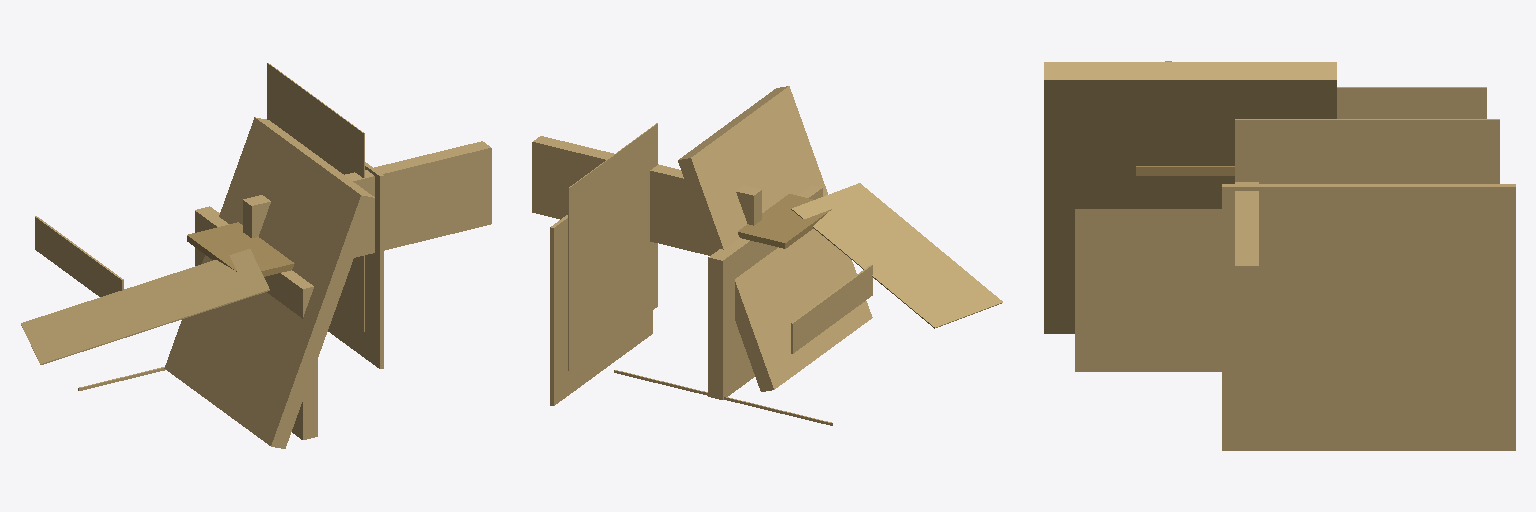
The robot description file, URDF, robot "evolved_design":
<?xml version="1.0" ?>
<robot name="evolved_design">
  <link name="base_link">
    <inertial>
      <mass value="0.001"/>
      <origin xyz="0 0 0" rpy="0 0 0"/>
      <inertia ixx="0.000001" ixy="0" ixz="0" iyy="0.000001" iyz="0" izz="0.000001"/>
    </inertial>
  </link>
  <link name="link_comp_0">
    <inertial>
      <mass value="9.511192"/>
      <origin xyz="0 0 0" rpy="0 0 0"/>
      <inertia ixx="0.458639228" ixy="0" ixz="0" iyy="0.172763660" iyz="0" izz="0.289838565"/>
    </inertial>
    <visual>
      <origin xyz="0 0 0" rpy="0 0 0"/>
      <geometry>
        <box size="0.050000 0.602645 0.464189"/>
      </geometry>
      <material name="link_comp_0_material">
        <color rgba="0.8 0.7 0.5 1"/>
      </material>
    </visual>
    <collision>
      <origin xyz="0 0 0" rpy="0 0 0"/>
      <geometry>
        <box size="0.050000 0.602645 0.464189"/>
      </geometry>
    </collision>
  </link>
  <joint name="base_link_to_link_comp_0" type="fixed">
    <parent link="base_link"/>
    <child link="link_comp_0"/>
    <origin xyz="0.025000 0.301323 0.232094" rpy="0.000000 0.000000 0.000000"/>
  </joint>
  <link name="link_comp_1">
    <inertial>
      <mass value="0.022130"/>
      <origin xyz="0 0 0" rpy="0 0 0"/>
      <inertia ixx="0.000000191" ixy="0" ixz="0" iyy="0.001070941" iyz="0" izz="0.001070833"/>
    </inertial>
    <visual>
      <origin xyz="0 0 0" rpy="0 0 0"/>
      <geometry>
        <box size="0.762000 0.004750 0.008992"/>
      </geometry>
      <material name="link_comp_1_material">
        <color rgba="0.8 0.7 0.5 1"/>
      </material>
    </visual>
    <collision>
      <origin xyz="0 0 0" rpy="0 0 0"/>
      <geometry>
        <box size="0.762000 0.004750 0.008992"/>
      </geometry>
    </collision>
  </link>
  <joint name="base_link_to_link_comp_1" type="fixed">
    <parent link="base_link"/>
    <child link="link_comp_1"/>
    <origin xyz="0.002716 0.593974 0.004496" rpy="0.000000 0.000000 0.000000"/>
  </joint>
  <link name="link_comp_2">
    <inertial>
      <mass value="0.212601"/>
      <origin xyz="0 0 0" rpy="0 0 0"/>
      <inertia ixx="0.004343697" ixy="0" ixz="0" iyy="0.000183588" iyz="0" izz="0.004161537"/>
    </inertial>
    <visual>
      <origin xyz="0 0 0" rpy="0 0 0"/>
      <geometry>
        <box size="0.006350 0.484616 0.101598"/>
      </geometry>
      <material name="link_comp_2_material">
        <color rgba="0.8 0.7 0.5 1"/>
      </material>
    </visual>
    <collision>
      <origin xyz="0 0 0" rpy="0 0 0"/>
      <geometry>
        <box size="0.006350 0.484616 0.101598"/>
      </geometry>
    </collision>
  </link>
  <joint name="base_link_to_link_comp_2" type="fixed">
    <parent link="base_link"/>
    <child link="link_comp_2"/>
    <origin xyz="-0.375264 0.595578 0.387610" rpy="0.000000 0.000000 0.000000"/>
  </joint>
  <link name="link_comp_3">
    <inertial>
      <mass value="0.667781"/>
      <origin xyz="0 0 0" rpy="0 0 0"/>
      <inertia ixx="0.036755775" ixy="0" ixz="0" iyy="0.020680131" iyz="0" izz="0.016076644"/>
    </inertial>
    <visual>
      <origin xyz="0 0 0" rpy="0 0 0"/>
      <geometry>
        <box size="0.002997 0.537483 0.609600"/>
      </geometry>
      <material name="link_comp_3_material">
        <color rgba="0.8 0.7 0.5 1"/>
      </material>
    </visual>
    <collision>
      <origin xyz="0 0 0" rpy="0 0 0"/>
      <geometry>
        <box size="0.002997 0.537483 0.609600"/>
      </geometry>
    </collision>
  </link>
  <joint name="base_link_to_link_comp_3" type="fixed">
    <parent link="base_link"/>
    <child link="link_comp_3"/>
    <origin xyz="0.385714 0.594703 0.416882" rpy="0.000000 0.000000 0.000000"/>
  </joint>
  <link name="link_comp_4">
    <inertial>
      <mass value="0.434203"/>
      <origin xyz="0 0 0" rpy="0 0 0"/>
      <inertia ixx="0.002761186" ixy="0" ixz="0" iyy="0.016445115" iyz="0" izz="0.019205450"/>
    </inertial>
    <visual>
      <origin xyz="0 0 0" rpy="0 0 0"/>
      <geometry>
        <box size="0.674151 0.276222 0.003429"/>
      </geometry>
      <material name="link_comp_4_material">
        <color rgba="0.8 0.7 0.5 1"/>
      </material>
    </visual>
    <collision>
      <origin xyz="0 0 0" rpy="0 0 0"/>
      <geometry>
        <box size="0.674151 0.276222 0.003429"/>
      </geometry>
    </collision>
  </link>
  <joint name="base_link_to_link_comp_4" type="fixed">
    <parent link="base_link"/>
    <child link="link_comp_4"/>
    <origin xyz="-0.382815 0.213382 0.413080" rpy="0.000000 -0.253033 -0.321895"/>
  </joint>
  <link name="link_comp_5">
    <inertial>
      <mass value="6.188834"/>
      <origin xyz="0 0 0" rpy="0 0 0"/>
      <inertia ixx="0.030036092" ixy="0" ixz="0" iyy="0.335314365" iyz="0" izz="0.307856954"/>
    </inertial>
    <visual>
      <origin xyz="0 0 0" rpy="0 0 0"/>
      <geometry>
        <box size="0.770991 0.050000 0.236092"/>
      </geometry>
      <material name="link_comp_5_material">
        <color rgba="0.8 0.7 0.5 1"/>
      </material>
    </visual>
    <collision>
      <origin xyz="0 0 0" rpy="0 0 0"/>
      <geometry>
        <box size="0.770991 0.050000 0.236092"/>
      </geometry>
    </collision>
  </link>
  <joint name="base_link_to_link_comp_5" type="fixed">
    <parent link="base_link"/>
    <child link="link_comp_5"/>
    <origin xyz="0.408742 0.349699 0.465255" rpy="0.000000 0.000000 0.000000"/>
  </joint>
  <link name="link_comp_6">
    <inertial>
      <mass value="3.057755"/>
      <origin xyz="0 0 0" rpy="0 0 0"/>
      <inertia ixx="0.180447841" ixy="0" ixz="0" iyy="0.089643326" iyz="0" izz="0.090886713"/>
    </inertial>
    <visual>
      <origin xyz="0 0 0" rpy="0 0 0"/>
      <geometry>
        <box size="0.012700 0.597092 0.592992"/>
      </geometry>
      <material name="link_comp_6_material">
        <color rgba="0.8 0.7 0.5 1"/>
      </material>
    </visual>
    <collision>
      <origin xyz="0 0 0" rpy="0 0 0"/>
      <geometry>
        <box size="0.012700 0.597092 0.592992"/>
      </geometry>
    </collision>
  </link>
  <joint name="base_link_to_link_comp_6" type="fixed">
    <parent link="base_link"/>
    <child link="link_comp_6"/>
    <origin xyz="0.426474 0.596292 0.296496" rpy="0.000000 0.000000 0.000000"/>
  </joint>
  <link name="link_comp_7">
    <inertial>
      <mass value="15.383863"/>
      <origin xyz="0 0 0" rpy="0 0 0"/>
      <inertia ixx="1.196388103" ixy="0" ixz="0" iyy="0.747583955" iyz="0" izz="0.455214091"/>
    </inertial>
    <visual>
      <origin xyz="0 0 0" rpy="0 0 0"/>
      <geometry>
        <box size="0.050000 0.593788 0.762000"/>
      </geometry>
      <material name="link_comp_7_material">
        <color rgba="0.8 0.7 0.5 1"/>
      </material>
    </visual>
    <collision>
      <origin xyz="0 0 0" rpy="0 0 0"/>
      <geometry>
        <box size="0.050000 0.593788 0.762000"/>
      </geometry>
    </collision>
  </link>
  <joint name="base_link_to_link_comp_7" type="fixed">
    <parent link="base_link"/>
    <child link="link_comp_7"/>
    <origin xyz="0.029996 0.234825 0.381000" rpy="0.000000 0.390684 0.000000"/>
  </joint>
  <link name="link_comp_8">
    <inertial>
      <mass value="0.912114"/>
      <origin xyz="0 0 0" rpy="0 0 0"/>
      <inertia ixx="0.007450325" ixy="0" ixz="0" iyy="0.003886466" iyz="0" izz="0.011281624"/>
    </inertial>
    <visual>
      <origin xyz="0 0 0" rpy="0 0 0"/>
      <geometry>
        <box size="0.225319 0.312499 0.019050"/>
      </geometry>
      <material name="link_comp_8_material">
        <color rgba="0.7 0.6 0.4 1"/>
      </material>
    </visual>
    <collision>
      <origin xyz="0 0 0" rpy="0 0 0"/>
      <geometry>
        <box size="0.225319 0.312499 0.019050"/>
      </geometry>
    </collision>
  </link>
  <joint name="base_link_to_link_comp_8" type="fixed">
    <parent link="base_link"/>
    <child link="link_comp_8"/>
    <origin xyz="-0.009107 0.279801 0.474214" rpy="0.000000 0.000000 0.000000"/>
  </joint>
</robot>

--- Render facts (derived) ---
Views: 3 orthographic renders of the robot side by side, from view 1: azimuth 30°, elevation 25°; view 2: azimuth 150°, elevation 25°; view 3: azimuth 270°, elevation 25°.
Robot: evolved_design — 10 links, 9 joints (9 fixed); root link base_link; default pose: all joints at 0.
Links seen in each view (by area): view 1: link_comp_7, link_comp_5, link_comp_4, link_comp_3, link_comp_6, link_comp_0, link_comp_2, link_comp_8; view 2: link_comp_7, link_comp_3, link_comp_4, link_comp_5, link_comp_0, link_comp_6, link_comp_2, link_comp_8, link_comp_1; view 3: link_comp_6, link_comp_7, link_comp_0, link_comp_3, link_comp_2, link_comp_5, link_comp_8.
Link boxes in pixels (x1,y1,x2,y2): link_comp_7: [164, 117, 374, 448]; link_comp_5: [243, 141, 491, 257]; link_comp_4: [21, 249, 269, 364]; link_comp_3: [267, 63, 364, 331]; link_comp_6: [328, 162, 383, 368]; link_comp_0: [195, 206, 317, 439]; link_comp_2: [35, 216, 123, 296]; link_comp_8: [187, 222, 294, 276]; link_comp_7: [678, 86, 872, 391]; link_comp_3: [568, 123, 657, 370]; link_comp_4: [791, 183, 1002, 328]; link_comp_5: [532, 136, 761, 255]; link_comp_0: [708, 185, 822, 399]; link_comp_6: [550, 215, 652, 405]; link_comp_2: [791, 265, 872, 353]; link_comp_8: [738, 194, 831, 248]; link_comp_1: [614, 370, 832, 425]; link_comp_6: [1222, 184, 1515, 450]; link_comp_7: [1044, 62, 1336, 333]; link_comp_0: [1075, 209, 1221, 371]; link_comp_3: [1235, 119, 1499, 183]; link_comp_2: [1337, 87, 1486, 118]; link_comp_5: [1235, 182, 1258, 371]; link_comp_8: [1136, 166, 1234, 175].
Size in the robot's own frame: 1.53 by 0.9569 by 0.7428 metres.
Geometry: primitives only (box / cylinder / sphere), no mesh files.